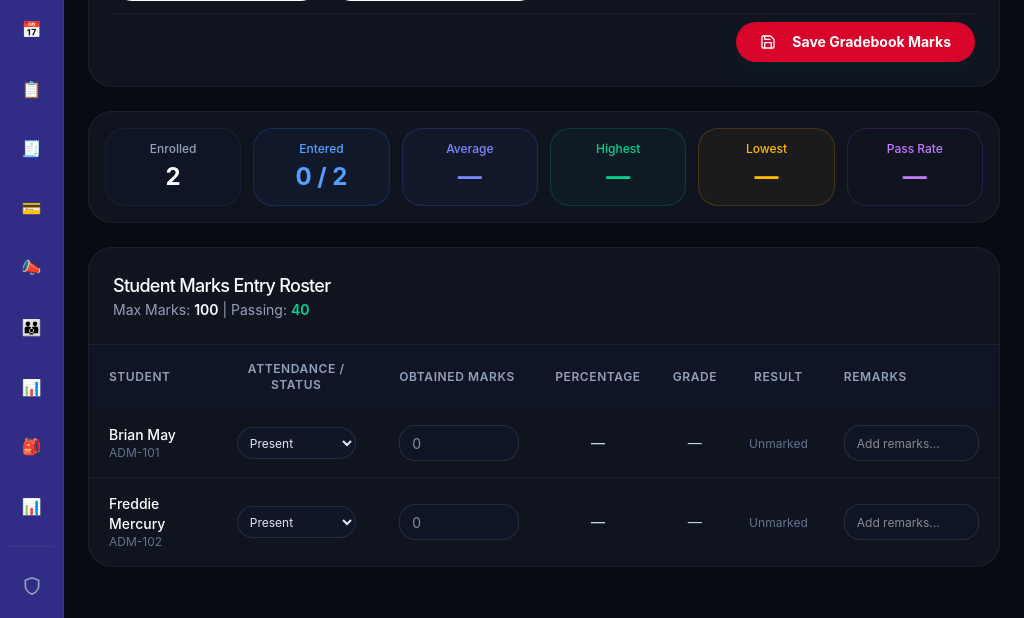
Test: Epic 10L: Examination & Result Management Enhancement › distinguishes save success from post-save refresh failure
(page scrolled)
Expected: the text "Brian May" is shown, [109,426,176,443]
Step 1. Type "78" into the number field with placeholder "0" in the row of "Brian" → (459, 443), box [399,425,519,461]
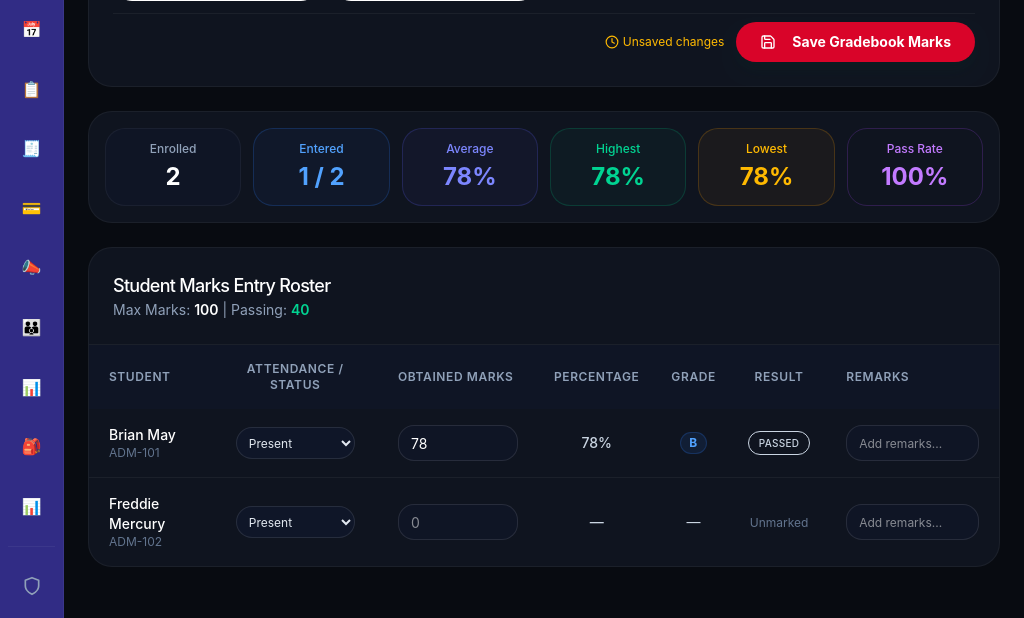
Step 2. Click the button "Save Gradebook Marks" → (856, 42), box [736,22,975,62]
(page scrolled)
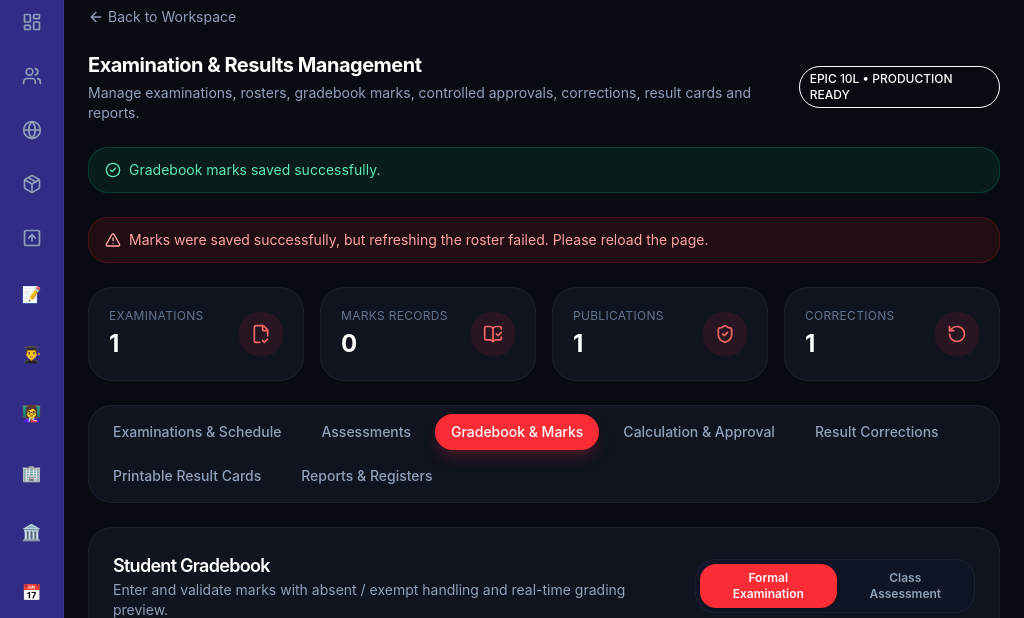
Expected: the text "Marks were saved successfully, but refreshing the roster failed. Please reload the page." is shown, [129,231,708,248]
